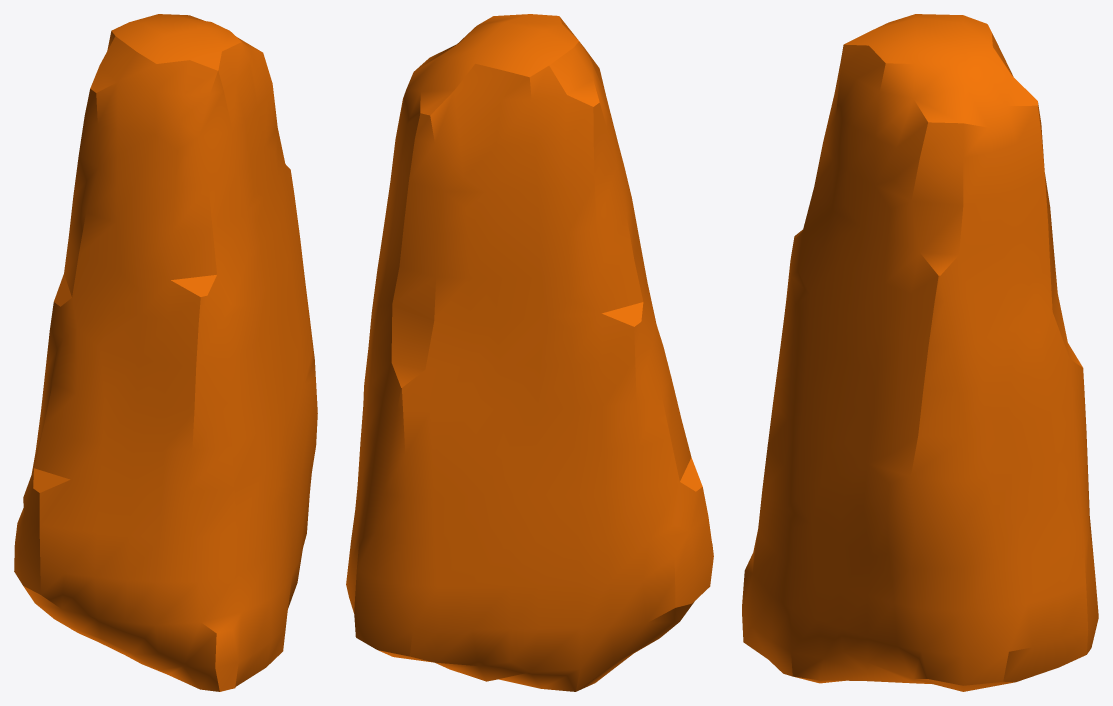
File: carrot_stone.glb
3 views of the same model, side by side, from view 1: azimuth 30°, elevation 25°; view 2: azimuth 150°, elevation 25°; view 3: azimuth 270°, elevation 25° (orthographic). The views are drawn at different scales.
Parts seen in each view (by area): view 1: 胡蘿蔔.002; view 2: 胡蘿蔔.002; view 3: 胡蘿蔔.002.
Part boxes in pixels (x1,y1,x2,y2): 胡蘿蔔.002: (14, 14, 317, 691); 胡蘿蔔.002: (346, 14, 713, 691); 胡蘿蔔.002: (742, 14, 1098, 691).
Bounding box in the file's own units: 1 × 1.97 × 0.9754.
